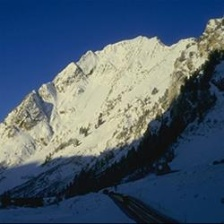neutral: (2, 2, 220, 218)
